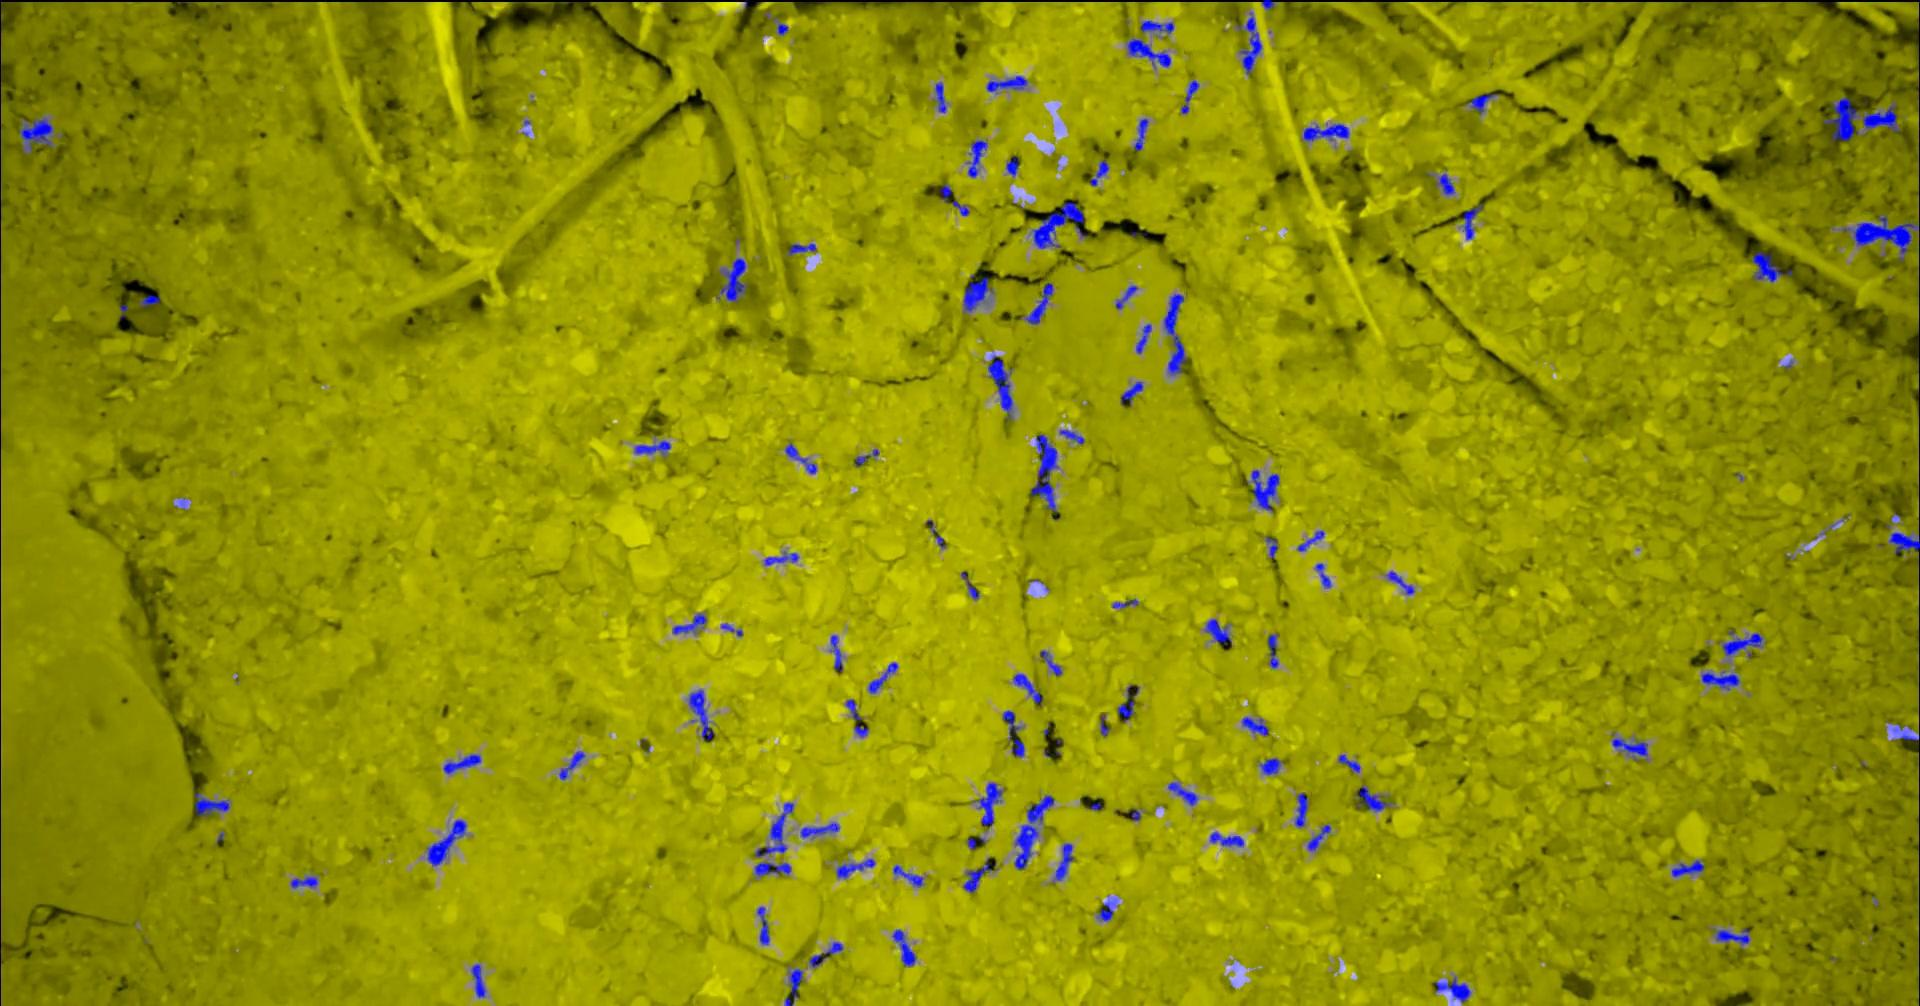ant: (1015, 795, 1053, 869), (1032, 201, 1086, 248), (754, 801, 792, 856), (1030, 434, 1057, 512), (1163, 293, 1187, 375), (425, 819, 466, 865), (987, 354, 1012, 419), (1823, 97, 1860, 140), (1236, 11, 1261, 74), (688, 688, 712, 741), (719, 257, 747, 301), (1128, 38, 1170, 67), (973, 782, 1001, 826), (1251, 469, 1279, 511), (1751, 251, 1790, 281), (18, 117, 52, 150), (963, 857, 996, 892), (1025, 282, 1051, 324), (963, 274, 992, 311), (1888, 532, 1919, 565), (1002, 710, 1023, 756), (1862, 104, 1898, 131), (783, 443, 817, 473), (1721, 633, 1763, 655), (1435, 976, 1470, 1002), (891, 929, 916, 965), (869, 662, 897, 694), (1356, 785, 1390, 810), (808, 941, 842, 967), (1013, 673, 1043, 702), (1611, 737, 1647, 760), (193, 793, 229, 815), (1117, 683, 1138, 721), (836, 857, 874, 878), (1303, 123, 1349, 140), (557, 751, 584, 779), (968, 138, 987, 177), (442, 754, 480, 774), (1204, 619, 1230, 645), (1385, 570, 1415, 594), (1702, 671, 1738, 690), (1054, 843, 1073, 880), (783, 968, 803, 1005), (1167, 782, 1197, 805), (891, 864, 922, 887), (985, 75, 1027, 91), (1462, 203, 1481, 239), (670, 614, 706, 633), (800, 822, 839, 838), (1180, 80, 1197, 113), (1671, 859, 1704, 876), (1716, 927, 1749, 945), (1307, 824, 1330, 850), (1297, 530, 1323, 551), (1467, 93, 1495, 113), (1039, 650, 1062, 674), (1241, 716, 1269, 735), (756, 906, 770, 944), (1209, 831, 1243, 846), (1120, 381, 1142, 405), (634, 439, 670, 453), (960, 572, 978, 600), (754, 862, 790, 876), (1115, 285, 1137, 307), (1133, 118, 1148, 150), (1090, 160, 1109, 185), (829, 634, 842, 671), (1135, 323, 1150, 353), (764, 551, 797, 565), (471, 964, 485, 997), (1294, 793, 1307, 827), (1140, 20, 1173, 33), (855, 448, 877, 466), (1059, 429, 1083, 445), (1338, 754, 1359, 772), (844, 699, 861, 720), (787, 243, 815, 255), (1267, 633, 1277, 667), (1316, 563, 1330, 587), (1439, 173, 1454, 194), (1258, 758, 1280, 774), (290, 876, 317, 888), (1097, 901, 1114, 920), (935, 83, 945, 112), (1265, 536, 1277, 558), (1004, 156, 1018, 175), (138, 293, 159, 306), (951, 199, 968, 215), (968, 835, 985, 848), (1112, 598, 1137, 607), (940, 183, 951, 201), (855, 724, 869, 735), (1261, 0, 1275, 10)
